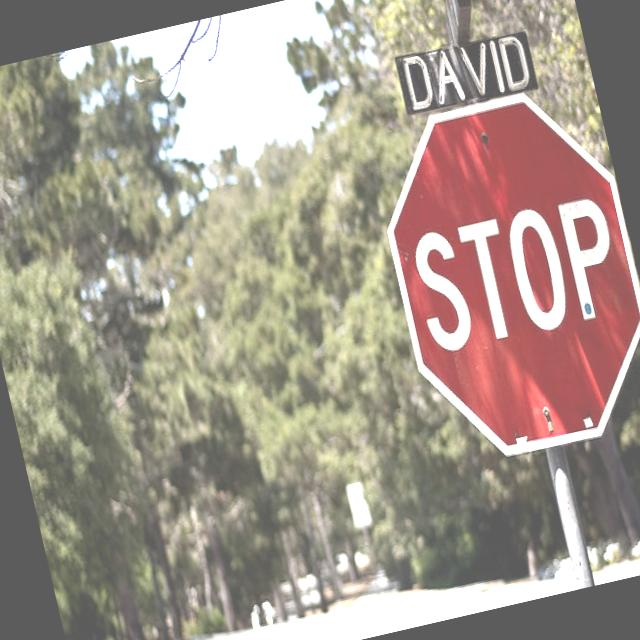Vehicle: (279, 574, 323, 612), (246, 600, 278, 628)
